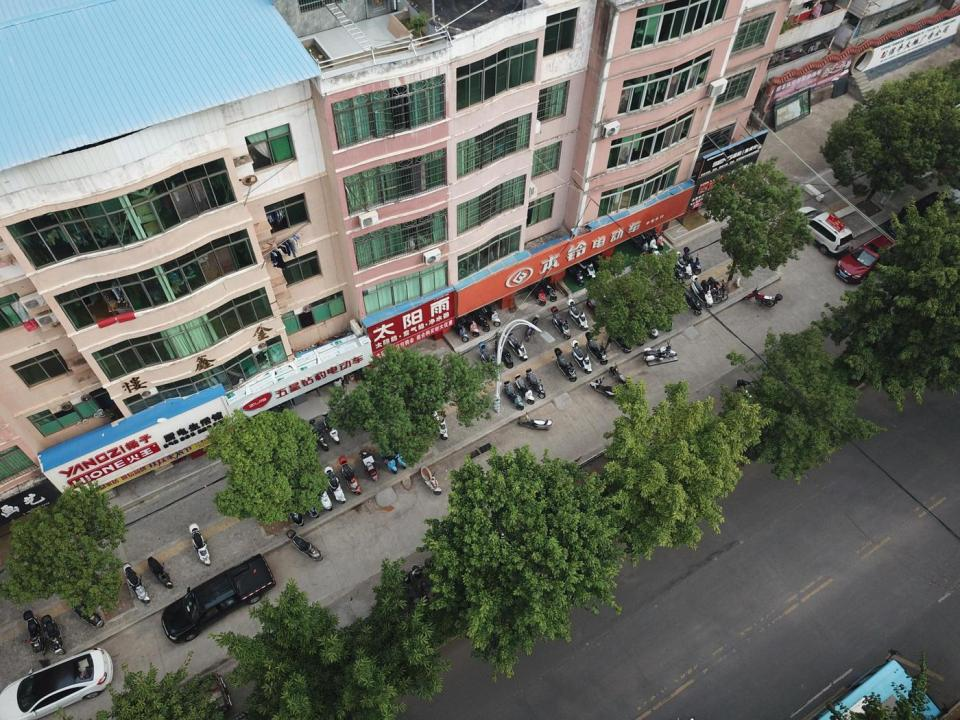car: (0, 648, 112, 718), (888, 190, 955, 241), (789, 206, 854, 255), (835, 233, 898, 283)
truck: (161, 553, 276, 644)
